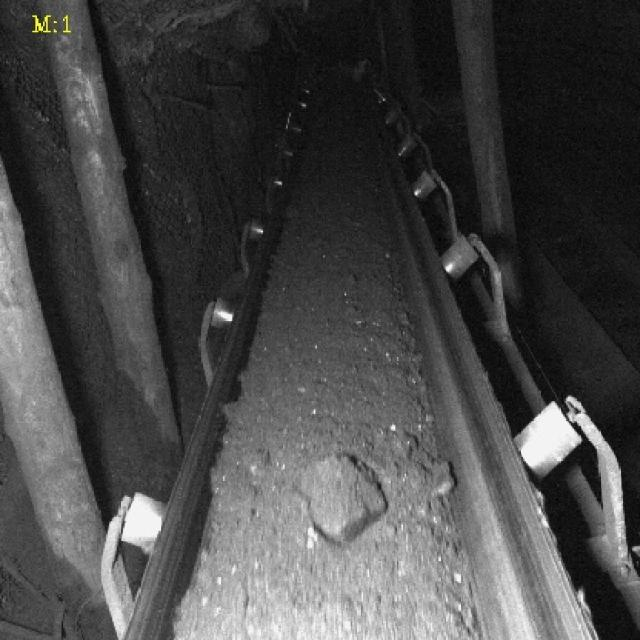large_sized_coal: (296, 456, 390, 544)
